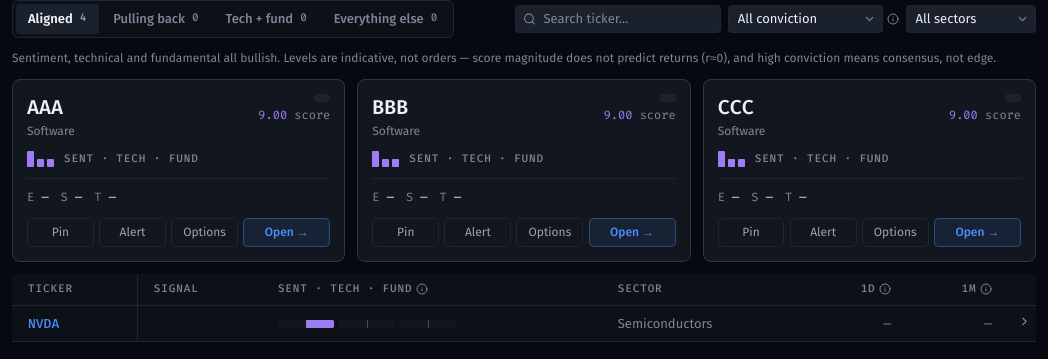
Scenario: SignalGroups — row-encoding diet (TD-03/04/05/06) › gives the Sent · Tech · Fund header a keyboard-reachable tooltip
The width and height of the screenshot is (1048, 359).
expect the link "NVDA" is shown: met, box x1=28 y1=315 x2=59 y2=332
Hover over the button named "What is Sent · Tech · Fund?" at (422, 290), box x1=416 y1=284 x2=428 y2=296
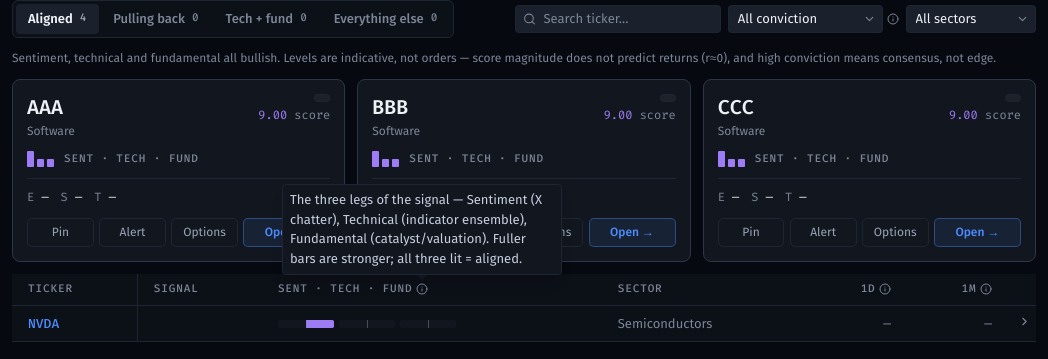
expect the tooltip "all three lit = aligned" is shown: met, box x1=290 y1=192 x2=542 y2=266
